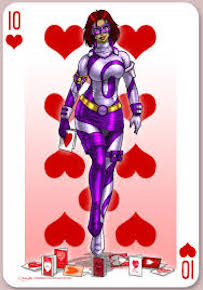TenOfHearts: (1, 2, 199, 289)
